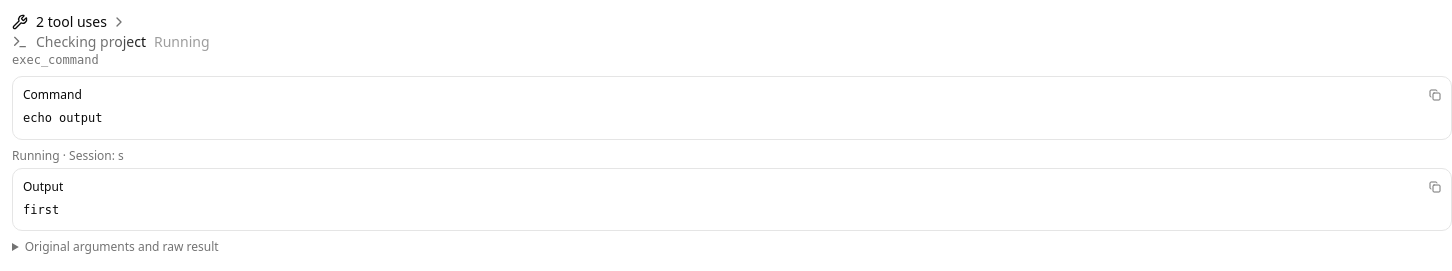
preserves an expanded preceding group and its failure summary
Click the button "2 tool uses".
click(69, 22)  # box top-left (12, 12), bottom-right (127, 32)
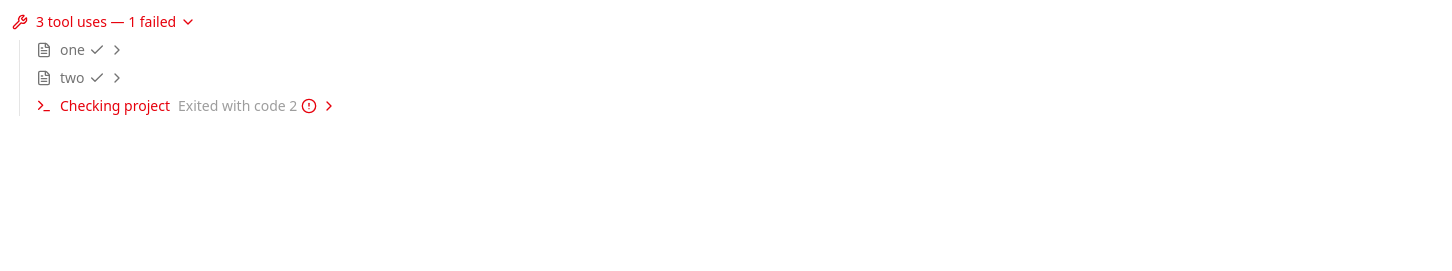
Now the button "3 tool uses — 1 failed" is expanded, box top-left (12, 12), bottom-right (196, 32)
Now the button "3 tool uses — 1 failed" is shown, box top-left (12, 12), bottom-right (196, 32)
